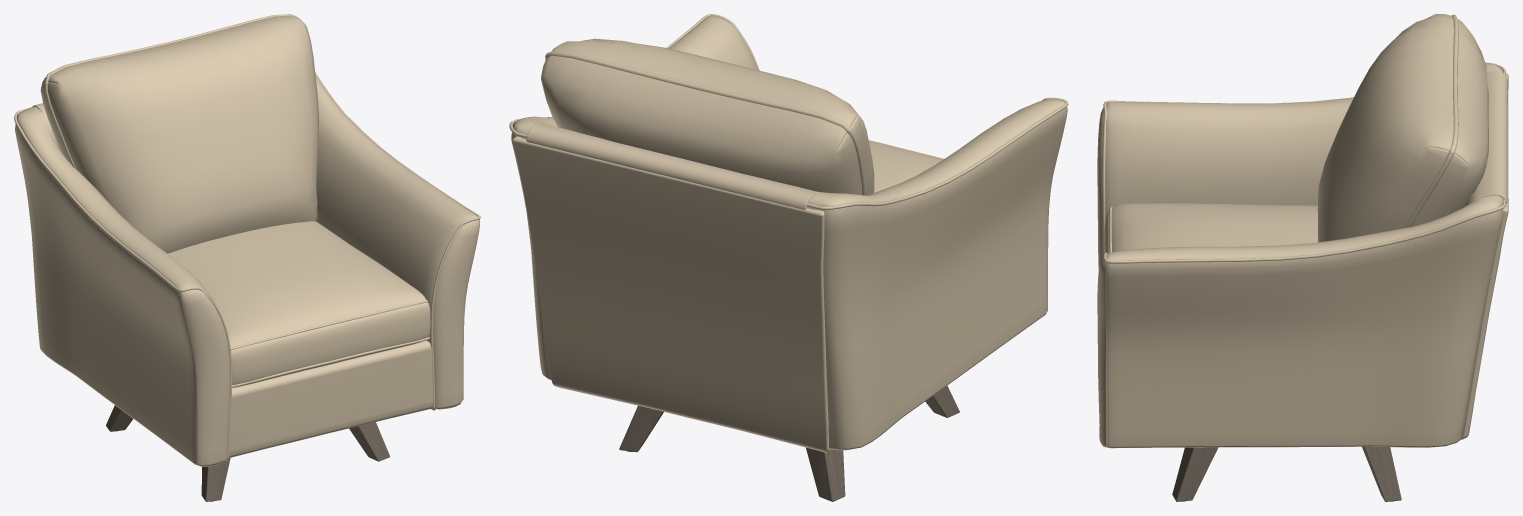
Rendered from chair.gltf.
3 views of the same model, side by side, from view 1: azimuth 30°, elevation 25°; view 2: azimuth 150°, elevation 25°; view 3: azimuth 270°, elevation 25° (orthographic). The views are drawn at different scales.
Visible parts, largest first — view 1: LZB210_460_FABRIC, LZB210_460_FABRIC_WELT, LZB210_460_BASE; view 2: LZB210_460_FABRIC, LZB210_460_FABRIC_WELT, LZB210_460_BASE; view 3: LZB210_460_FABRIC, LZB210_460_FABRIC_WELT, LZB210_460_BASE.
Part boxes in pixels (<box>): LZB210_460_FABRIC: <box>15,15,479,466</box>; LZB210_460_FABRIC_WELT: <box>14,14,480,460</box>; LZB210_460_BASE: <box>106,405,389,501</box>; LZB210_460_FABRIC: <box>511,15,1067,452</box>; LZB210_460_FABRIC_WELT: <box>509,14,1068,209</box>; LZB210_460_BASE: <box>619,385,959,501</box>; LZB210_460_FABRIC: <box>1097,14,1508,448</box>; LZB210_460_FABRIC_WELT: <box>1102,14,1505,263</box>; LZB210_460_BASE: <box>1172,446,1401,501</box>.
Bounding box in the file's own units: 0.8338 × 0.9222 × 0.8986.
3 materials, 3 textured.
